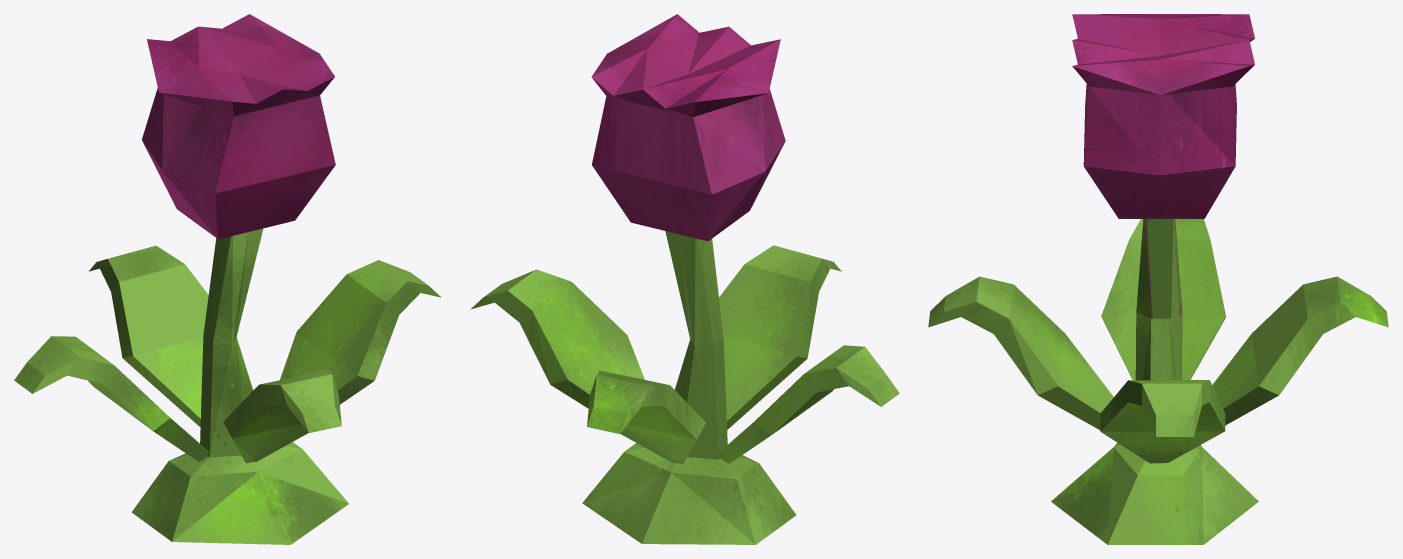
The model's file is tulipTwo.glb.
3 views of the same model, side by side, from view 1: azimuth 30°, elevation 25°; view 2: azimuth 150°, elevation 25°; view 3: azimuth 270°, elevation 25° (orthographic). The views are drawn at different scales.
Parts seen in each view (by area): view 1: Cube; view 2: Cube; view 3: Cube.
Part boxes in pixels (x1,y1,x2,y2): Cube: (14,14,441,544); Cube: (471,14,899,544); Cube: (928,14,1388,544).
Bounding box in the file's own units: 2.98 × 3.12 × 2.81.
1 material, 1 textured.
